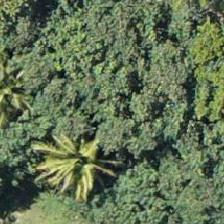coconut_tree: (23, 120, 113, 210), (0, 49, 71, 139)
